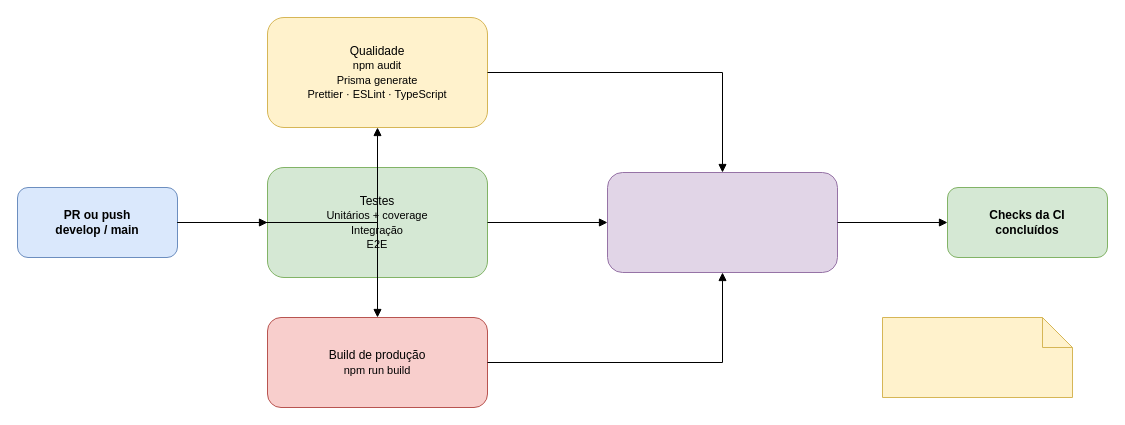
The diagram is 1125 pixels wide and 425 high, and some of its shapes have lost their labels. The centre of each missing label's shape, as x and y in pixels:
CI somente: não realiza deploy: point 977,357
SonarQube Cloud Coverage · qualidade · segurança: point 722,222
